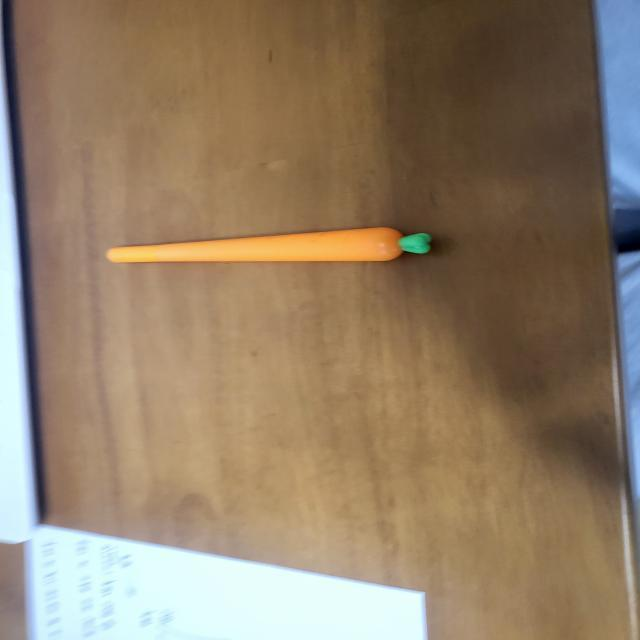carrot: (101, 225, 408, 268)
